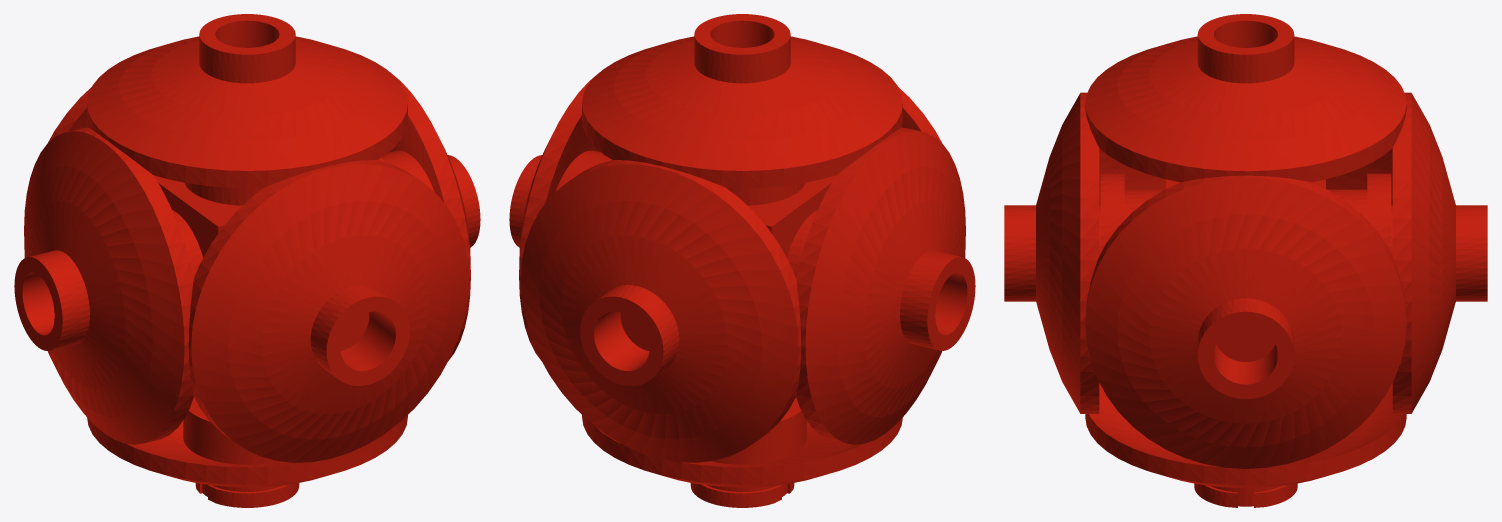
File: Projectiles.fbx
3 renders of one model, left to right at view 1: azimuth 30°, elevation 25°; view 2: azimuth 150°, elevation 25°; view 3: azimuth 270°, elevation 25°, orthographic.
Parts seen in each view (by area): view 1: OBJ-Projectiles-06; view 2: OBJ-Projectiles-06; view 3: OBJ-Projectiles-06.
Boxes of the visible parts, x1,y1,x2,y2 form: OBJ-Projectiles-06: (14, 14, 480, 507); OBJ-Projectiles-06: (509, 14, 975, 507); OBJ-Projectiles-06: (1004, 14, 1487, 507).
Bounding box in the file's own units: 94.09 × 97.2 × 94.09.
